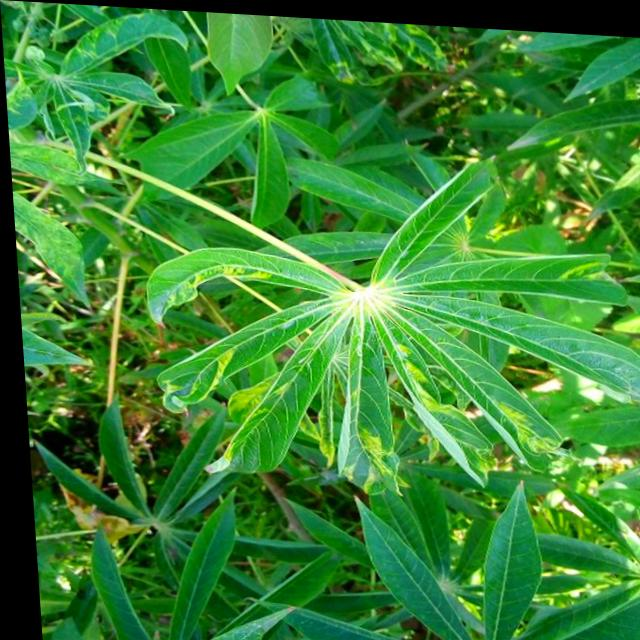Mosaico: (173, 250, 576, 478), (311, 2, 467, 81)
